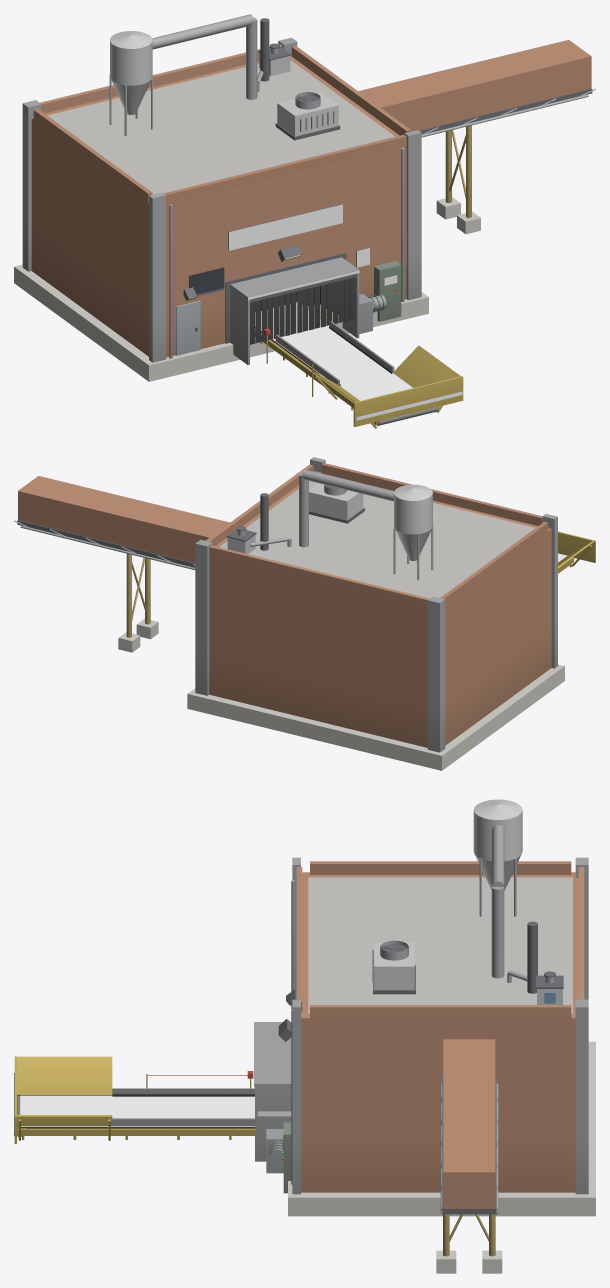
File: intake.glb
The picture shows the model from 3 angles, top to bottom: view 1: azimuth 30°, elevation 25°; view 2: azimuth 150°, elevation 25°; view 3: azimuth 270°, elevation 25°; orthographic projection. The views are drawn at different scales.
Visible parts, largest first — view 1: intake; view 2: intake; view 3: intake.
Boxes of the visible parts, <box> form: intake: <box>14,14,595,428</box>; intake: <box>14,457,595,770</box>; intake: <box>14,799,595,1273</box>.
Bounding box in the file's own units: 23.51 × 11.4 × 20.22.
